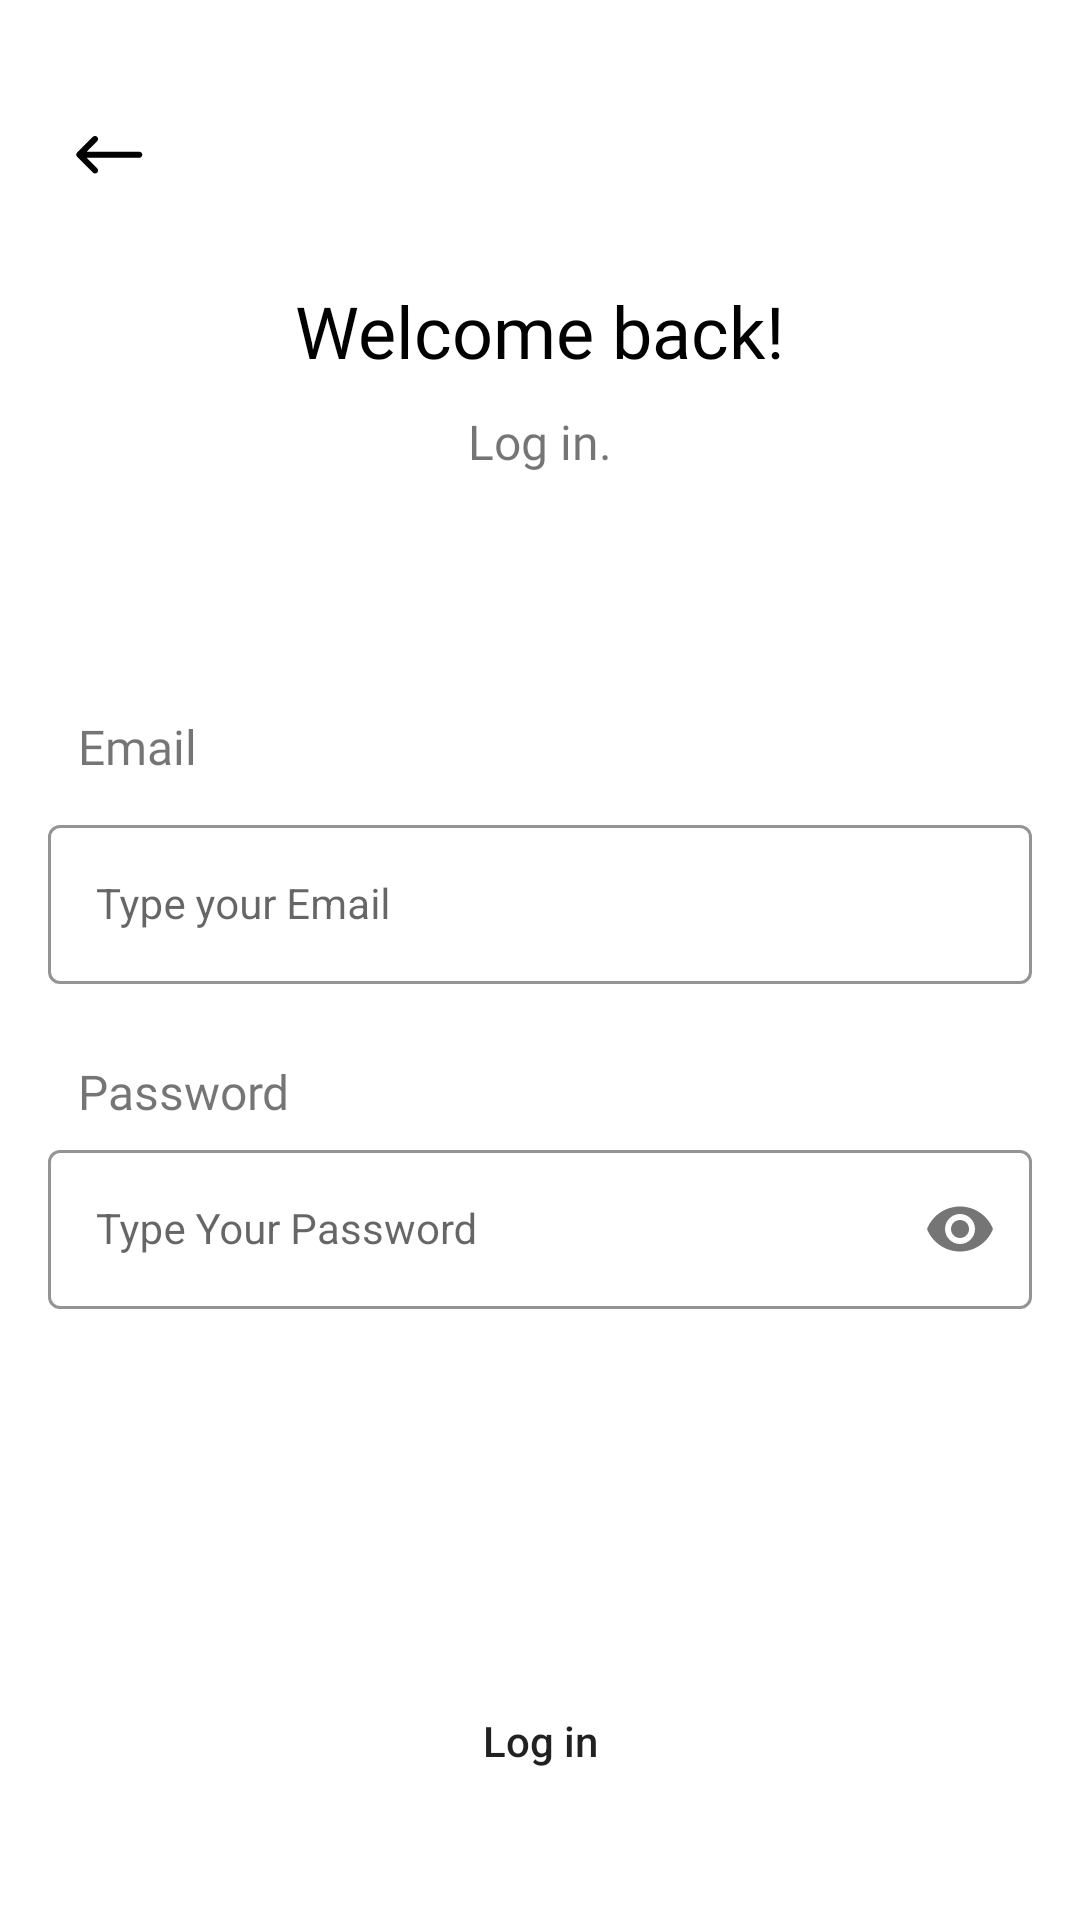

Icons on this 1080px×1920px Android screen, each with the point to tap as point (x, y):
back: point (109, 155)
